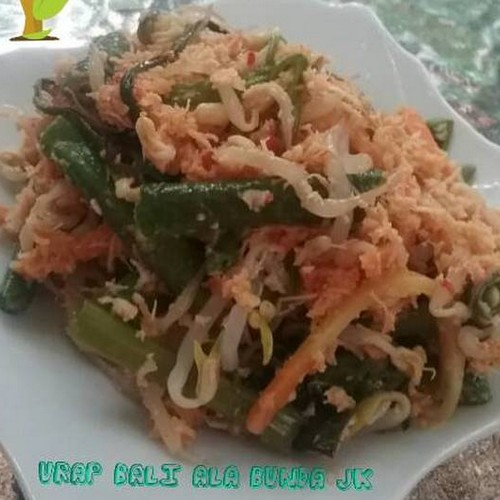jukut urap: (12, 17, 500, 451)
